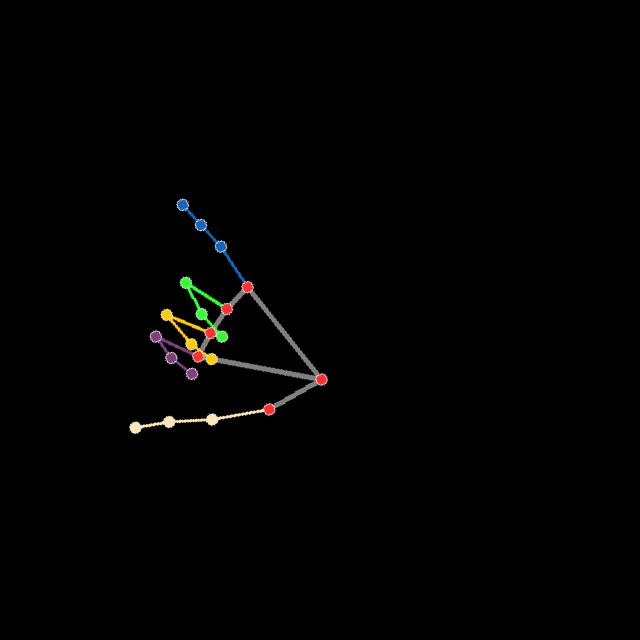skr: (122, 196, 330, 435)
